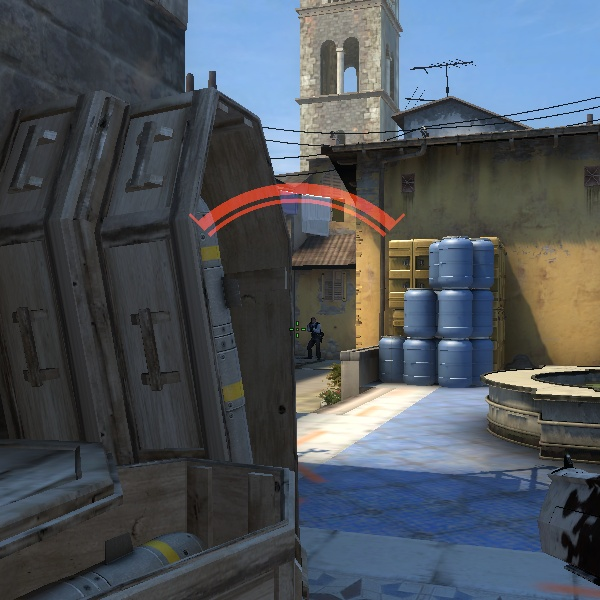t_body: (302, 317, 327, 360)
